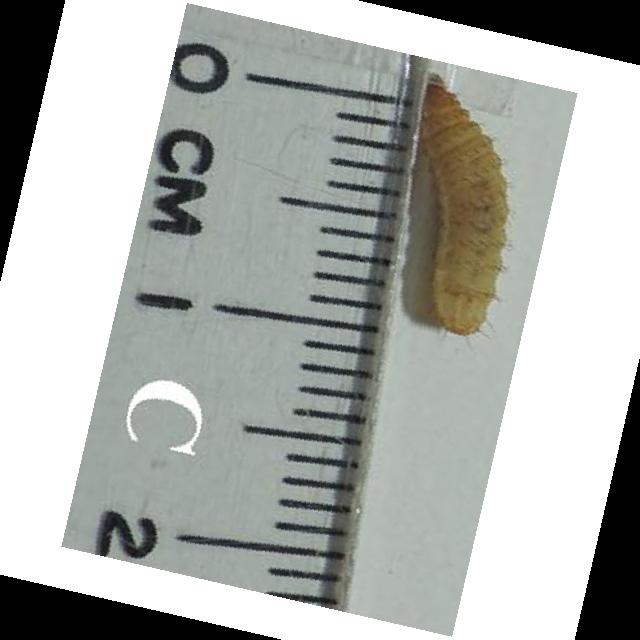Maggot: (419, 76, 511, 336)
